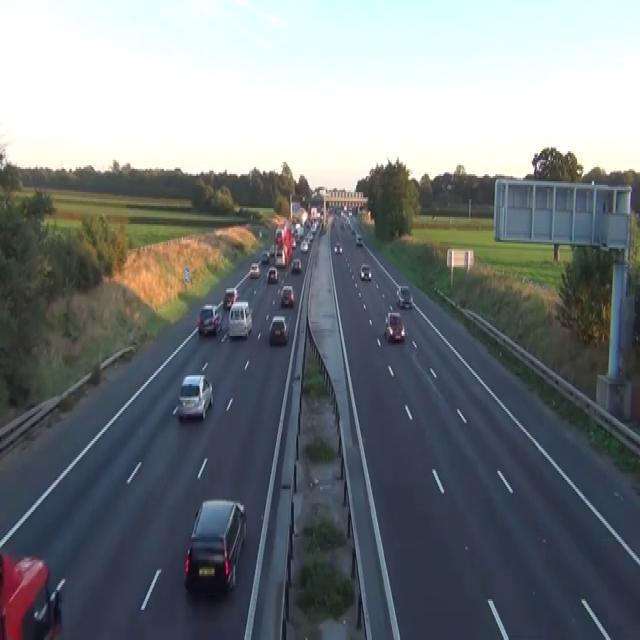Car: (184, 498, 246, 596), (0, 551, 65, 638), (177, 374, 213, 419), (228, 300, 252, 340), (198, 304, 222, 336), (384, 311, 405, 341), (269, 315, 289, 345), (396, 284, 413, 308), (223, 286, 238, 310), (280, 284, 294, 306), (274, 249, 285, 267), (359, 263, 371, 279), (266, 266, 278, 282), (249, 262, 260, 278), (291, 258, 301, 272), (274, 228, 282, 244), (333, 240, 342, 254), (260, 249, 269, 263), (300, 240, 308, 252), (355, 233, 362, 245), (306, 231, 313, 242), (269, 244, 275, 256), (310, 222, 316, 233), (291, 238, 296, 249), (340, 220, 345, 230), (321, 224, 326, 233), (348, 208, 352, 215), (351, 228, 355, 235), (259, 230, 262, 238)
Truck: (273, 224, 292, 267)
